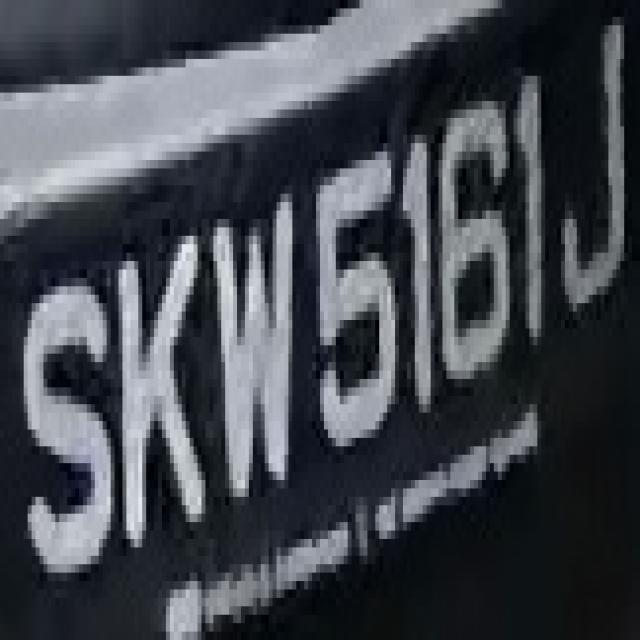1: (399, 101, 446, 472), (506, 67, 561, 370)
5: (312, 135, 399, 463)
6: (438, 93, 518, 421)
J: (553, 8, 628, 354)
K: (111, 210, 217, 556)
S: (12, 253, 114, 598)
W: (202, 185, 308, 514)
